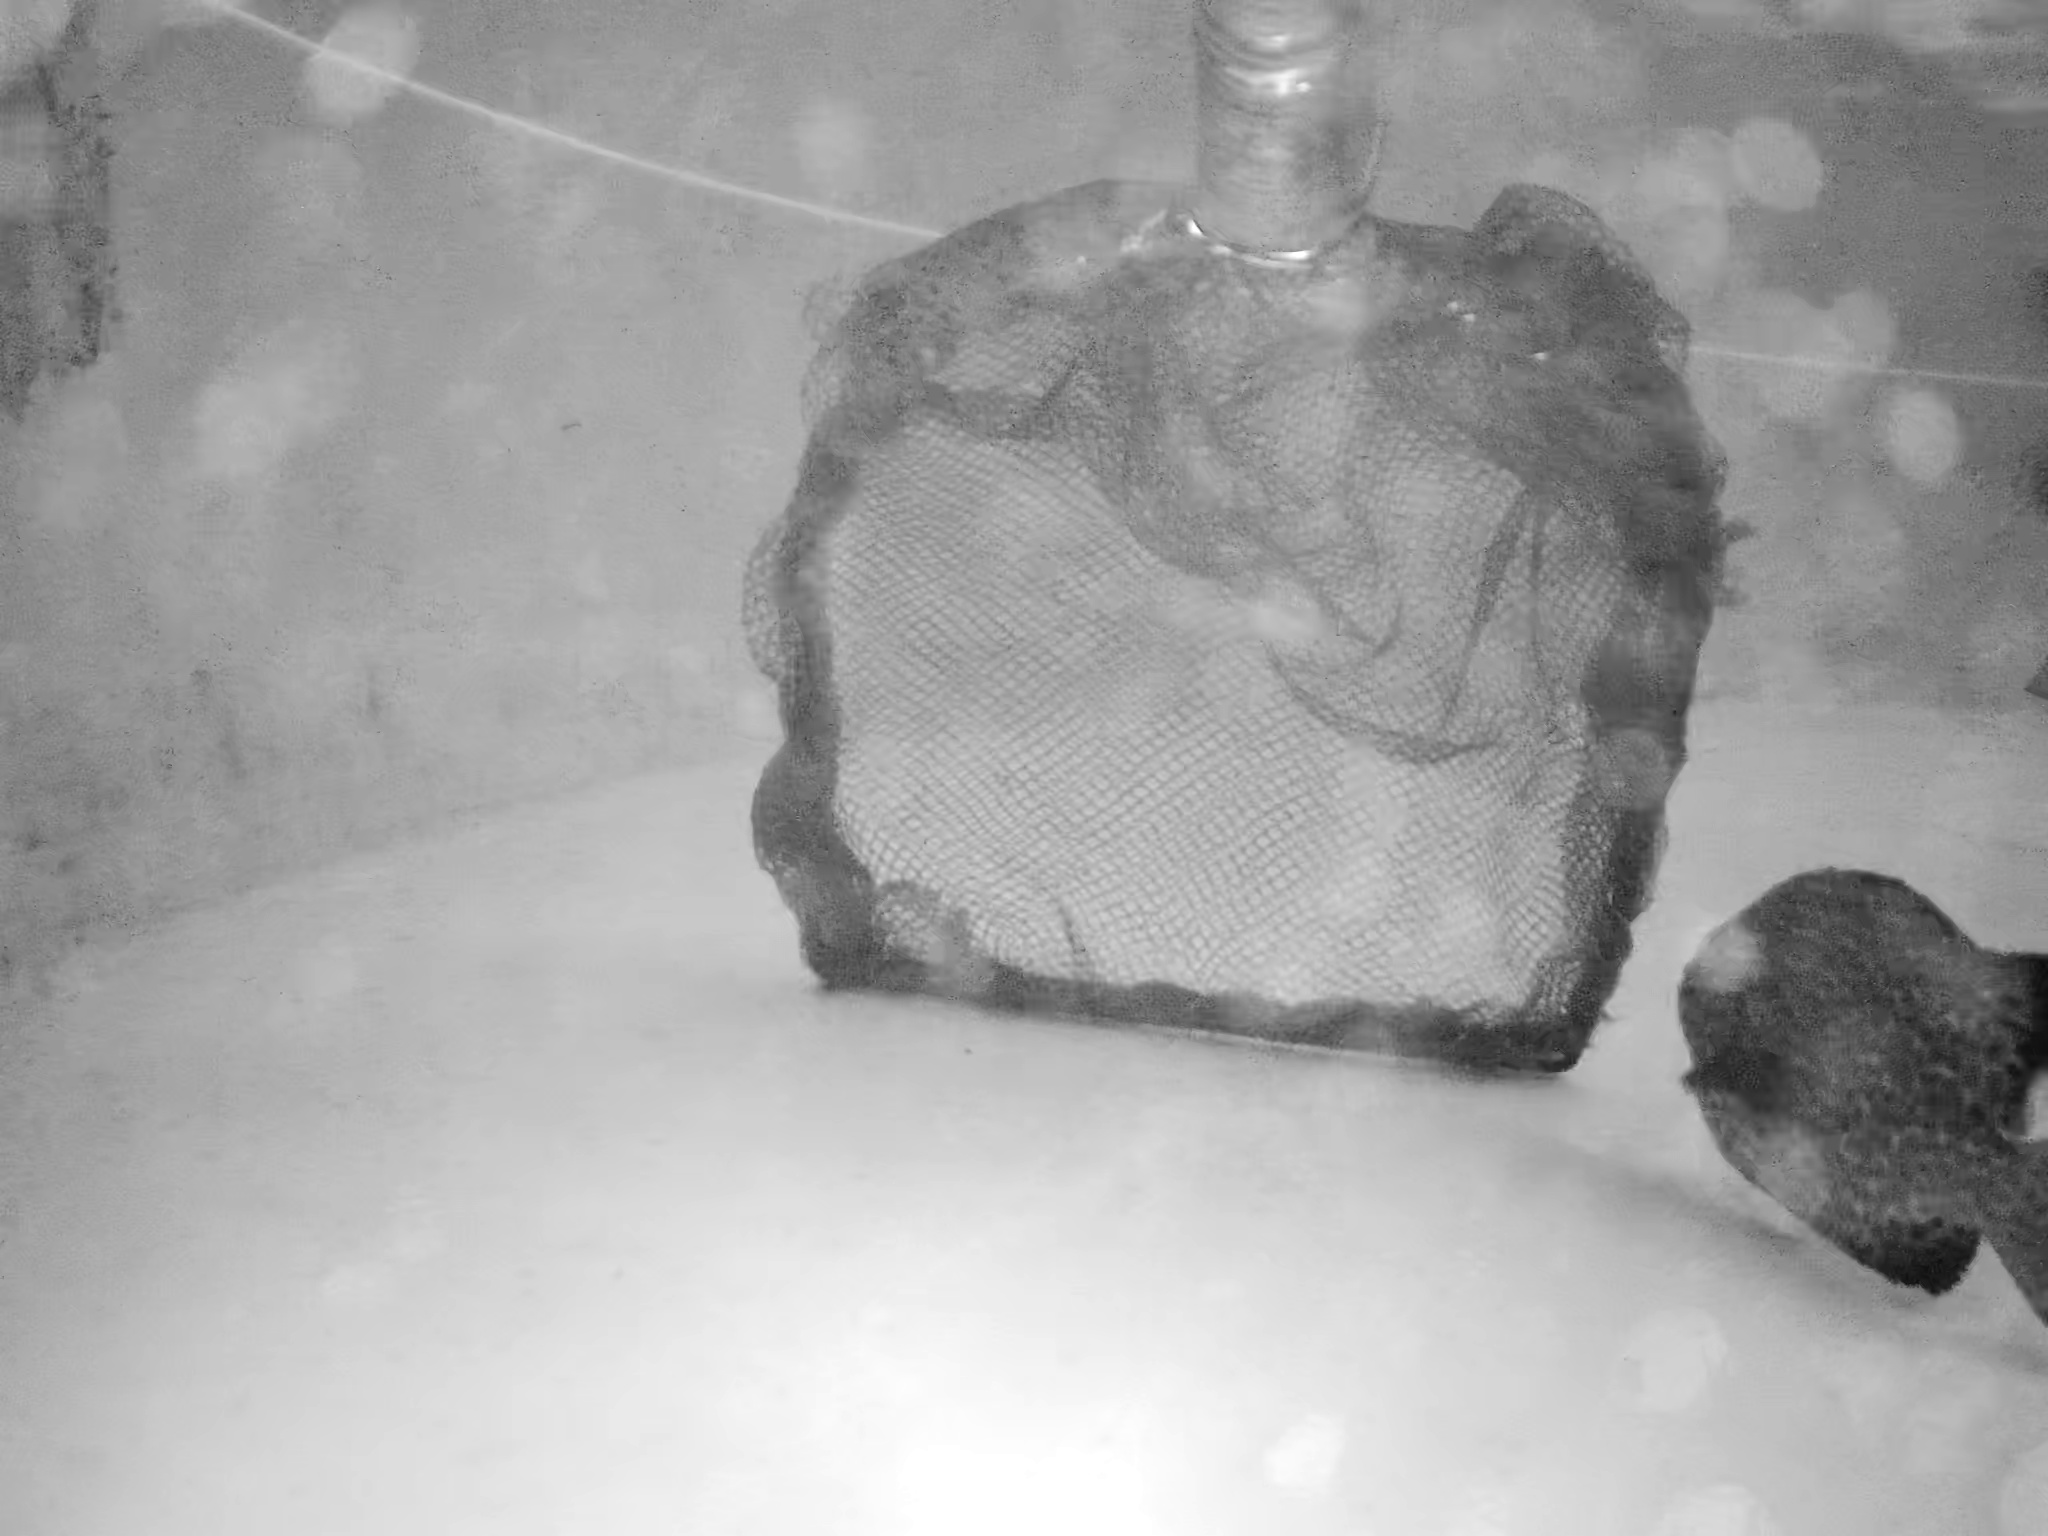fish: (1688, 845, 2048, 1313)
